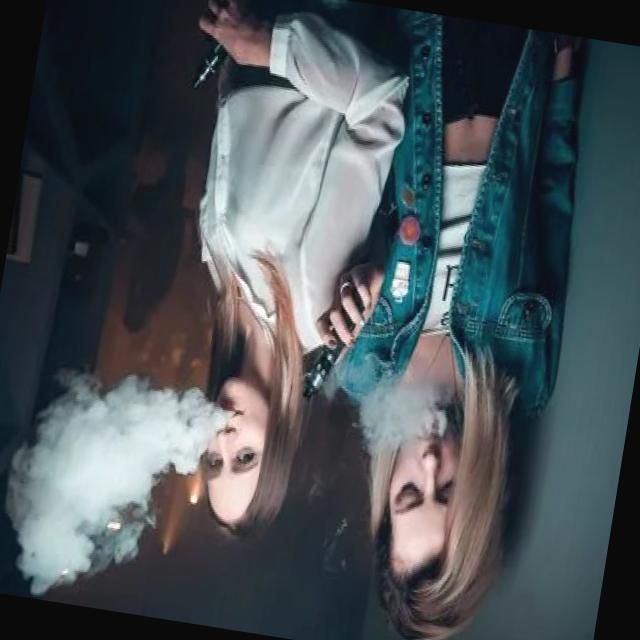cigarette: (298, 283, 372, 410), (184, 23, 233, 100)
